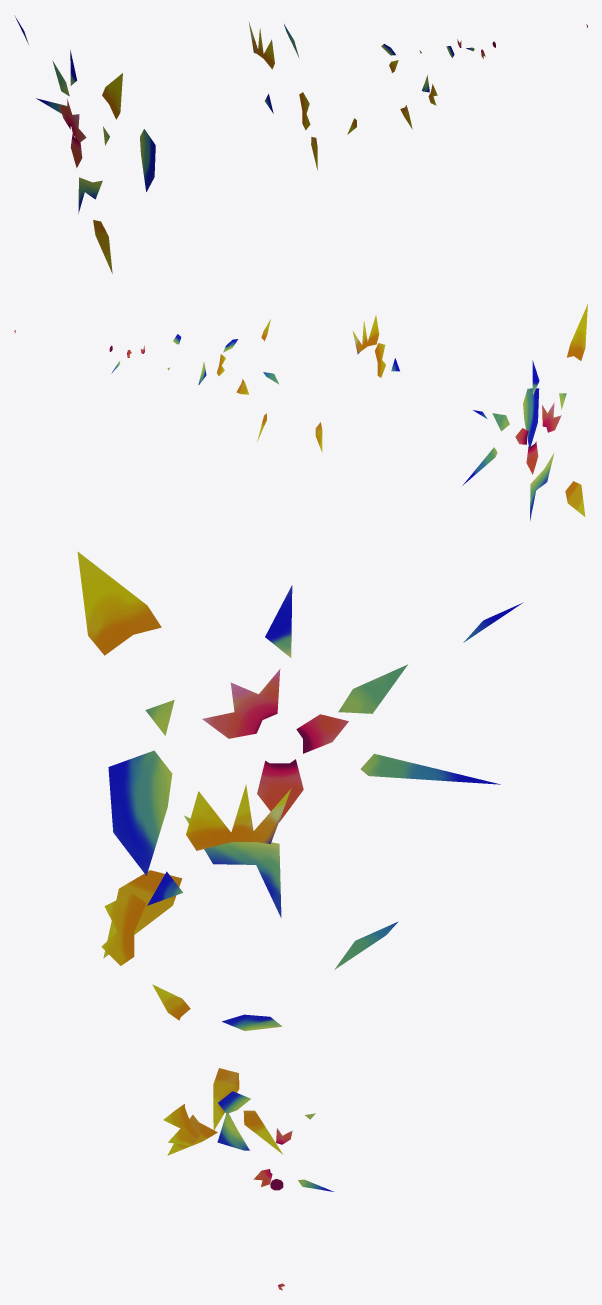
File: 02-emblem.glb
3 views of the same model, one above another, from view 1: azimuth 30°, elevation 25°; view 2: azimuth 150°, elevation 25°; view 3: azimuth 270°, elevation 25° (orthographic). The views are drawn at different scales.
Visible parts, largest first — view 1: obj2-emblem.001; view 2: obj2-emblem.001; view 3: obj2-emblem.001.
Boxes of the visible parts, left/top/right/bottom form: obj2-emblem.001: left=14, top=15, right=587, bottom=273; obj2-emblem.001: left=14, top=304, right=587, bottom=520; obj2-emblem.001: left=77, top=552, right=523, bottom=1290.
Size of the model in its own units: 1.27 by 0.4812 by 0.4738.
Materials: 1 (1 with a texture image).
